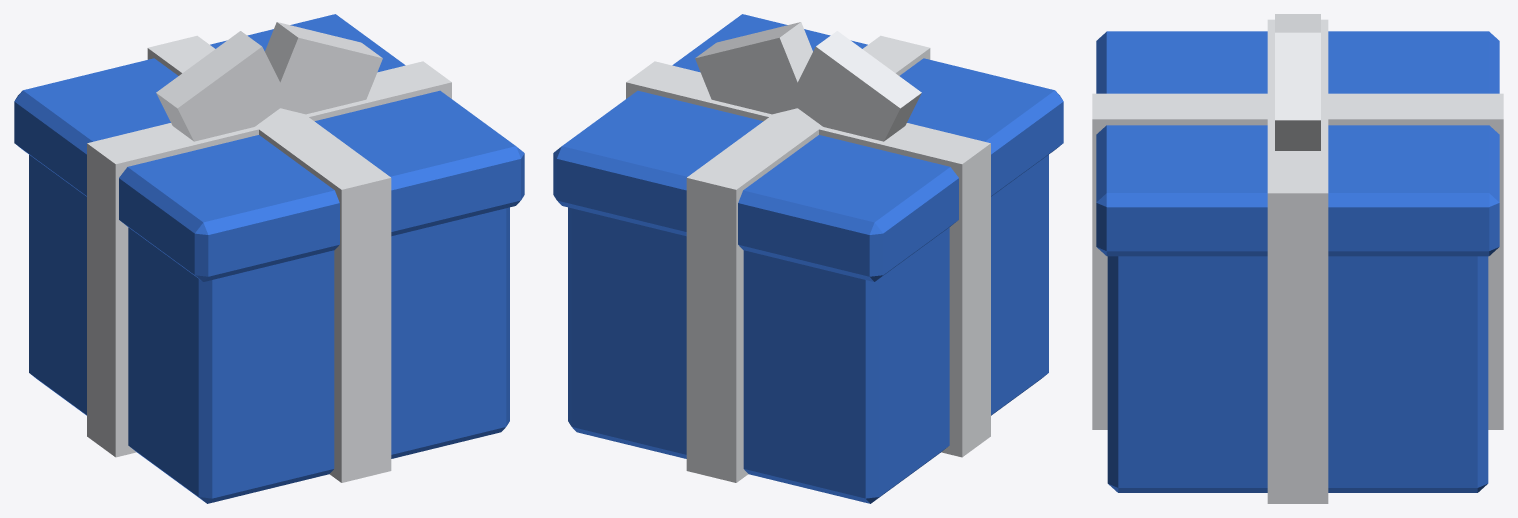
The model's file is BlueGift.fbx.
The picture shows the model from 3 angles, left to right: view 1: azimuth 30°, elevation 25°; view 2: azimuth 150°, elevation 25°; view 3: azimuth 270°, elevation 25°; orthographic projection. The views are drawn at different scales.
Parts seen in each view (by area): view 1: BlueGift; view 2: BlueGift; view 3: BlueGift.
Part boxes in pixels (x1,y1,x2,y2): BlueGift: (14, 14, 524, 503); BlueGift: (553, 14, 1063, 503); BlueGift: (1092, 14, 1503, 503).
Bounding box in the file's own units: 1.94 × 2.05 × 1.94.
Materials: 1 (1 with a texture image).
